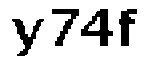4: (80, 7, 113, 50)
7: (49, 5, 81, 50)
f: (118, 5, 138, 49)
y: (10, 15, 43, 60)
